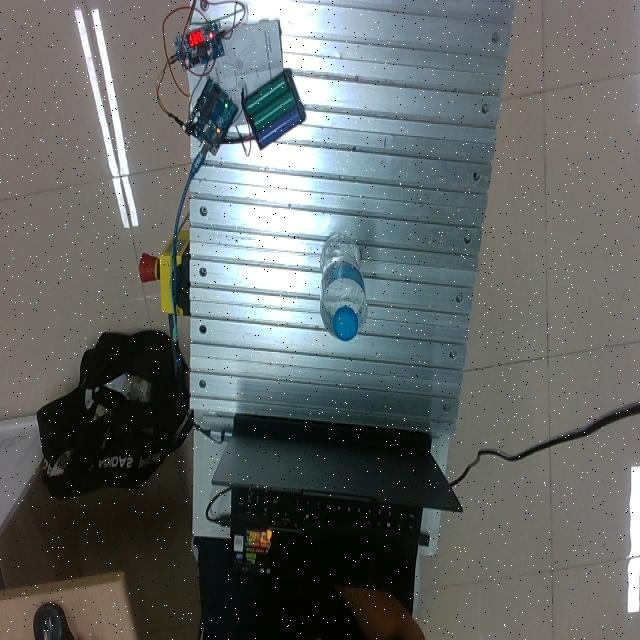lavie: (319, 235, 368, 342)
